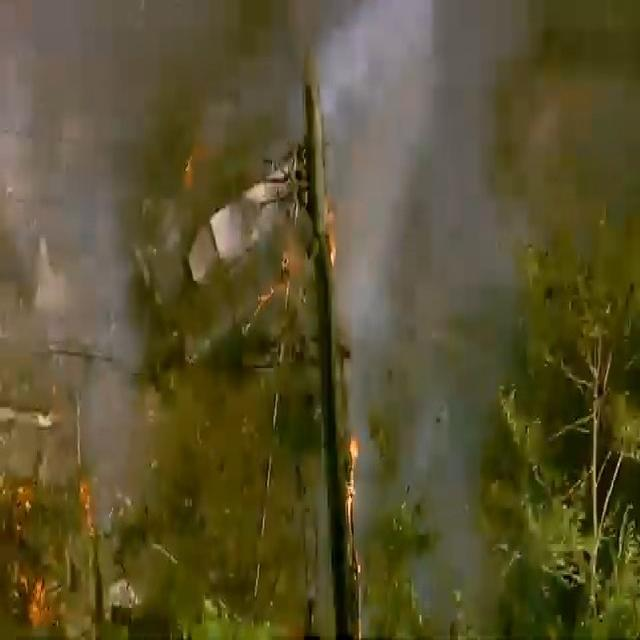Fire: (342, 434, 362, 576), (19, 562, 56, 633), (75, 471, 100, 539), (320, 199, 340, 274), (180, 138, 199, 196)
Smoke: (280, 0, 527, 620), (0, 0, 231, 508)
